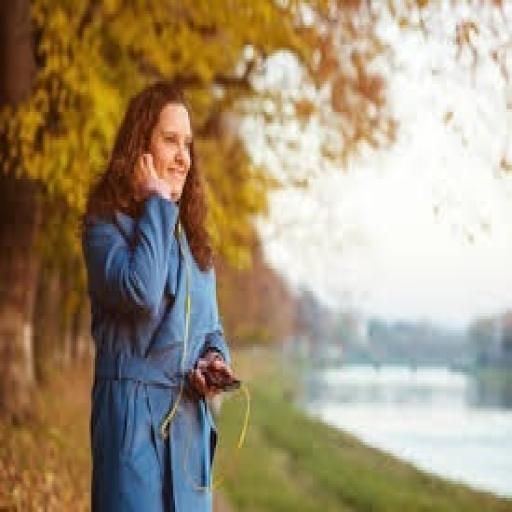listening_to_music: (80, 78, 235, 510)
